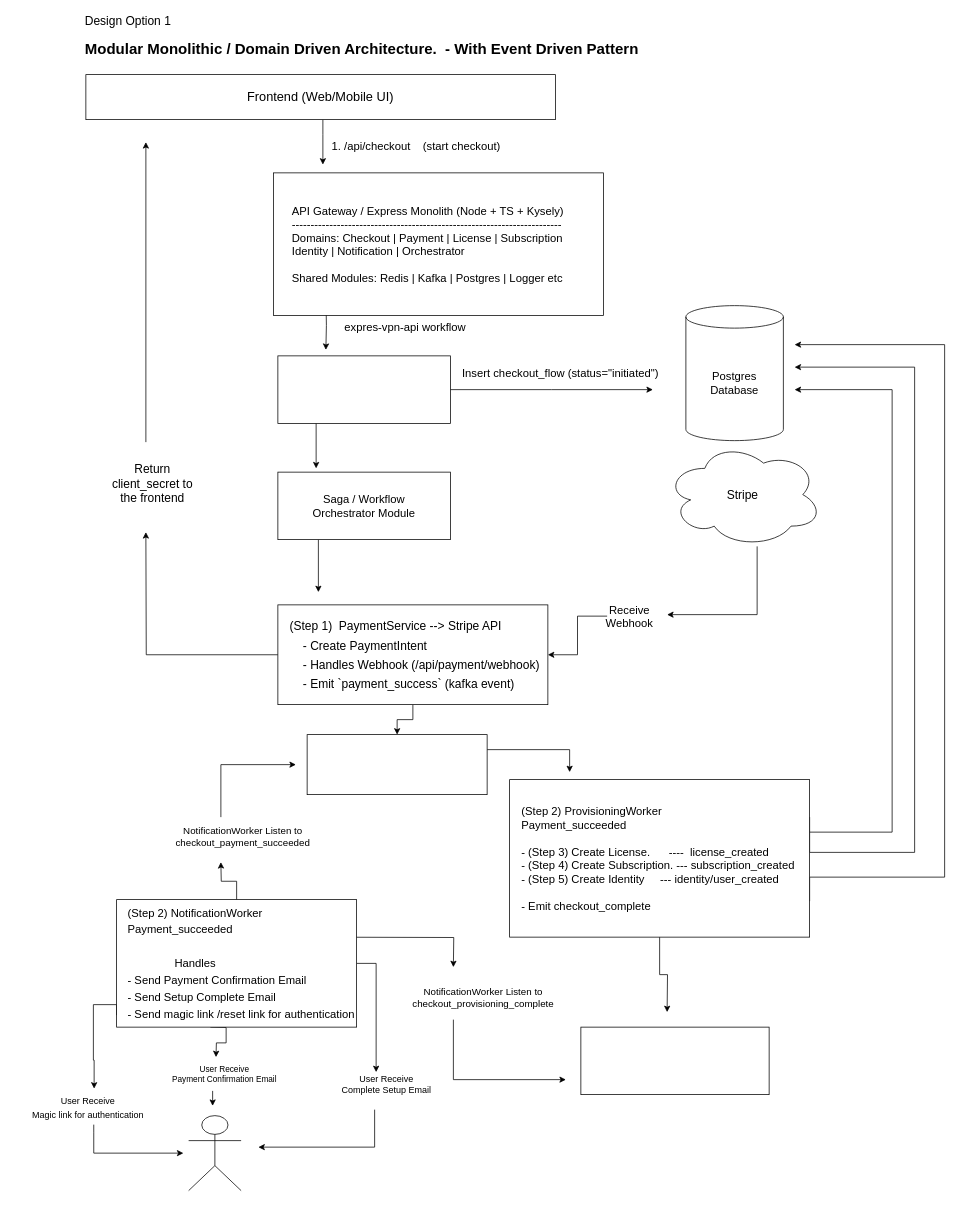
This 964x1230 diagram has some shape labels left out. The centre of each missing label's shape, as x and y in pixels:
Checkout Module /api/checkout: the point at 363,389
Kafka topic checkout_payment_succeeded: the point at 396,764
Kafka topic checkout_provisioning_complete: the point at 674,1060
User: the point at 214,1153
